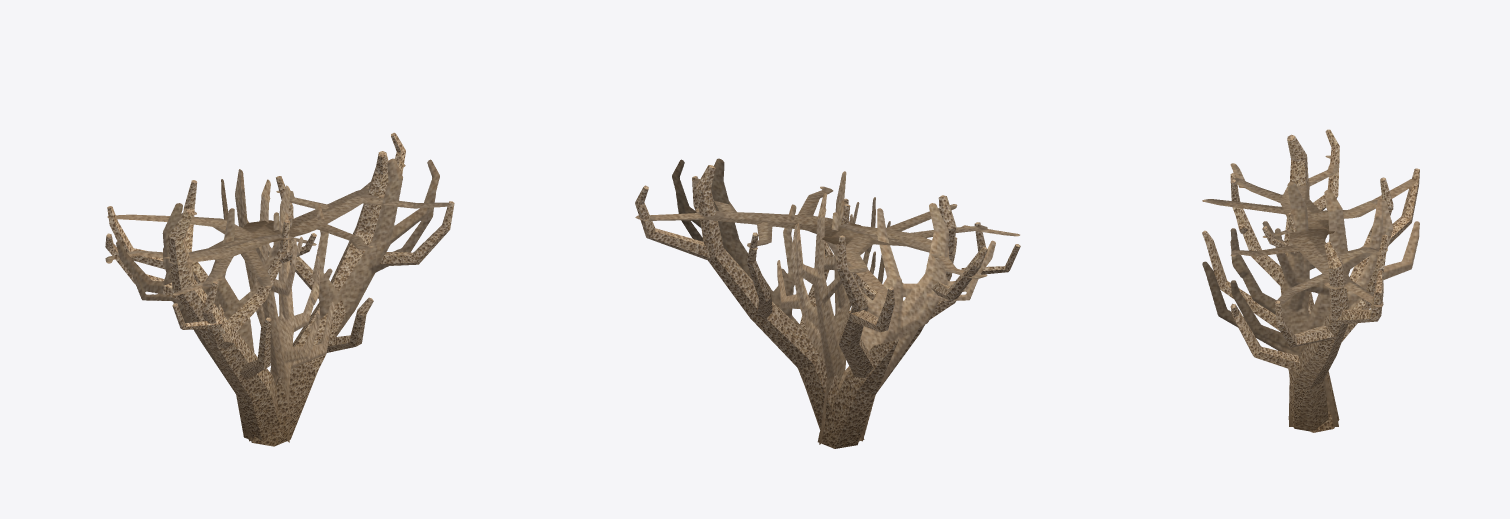
The model's file is Coral-01-Galhada-Marfin.glb.
3 views of the same model, side by side, from view 1: azimuth 30°, elevation 25°; view 2: azimuth 150°, elevation 25°; view 3: azimuth 270°, elevation 25° (orthographic). The views are drawn at different scales.
Visible parts, largest first — view 1: Coral-01-Galhada-Marfin impostor, Colonia; view 2: Coral-01-Galhada-Marfin impostor, Colonia; view 3: Coral-01-Galhada-Marfin impostor, Colonia.
Part boxes in pixels (box(x1,y1,x2,y2)): Coral-01-Galhada-Marfin impostor: box(105, 158, 451, 442); Colonia: box(105, 132, 454, 446); Coral-01-Galhada-Marfin impostor: box(635, 158, 1019, 444); Colonia: box(635, 165, 1020, 448); Coral-01-Galhada-Marfin impostor: box(1202, 155, 1419, 426); Colonia: box(1202, 129, 1419, 432).
Size of what is drawn, in the model's own units: 1.41 by 1.41 by 1.41.
Materials: 2 (2 with a texture image).
